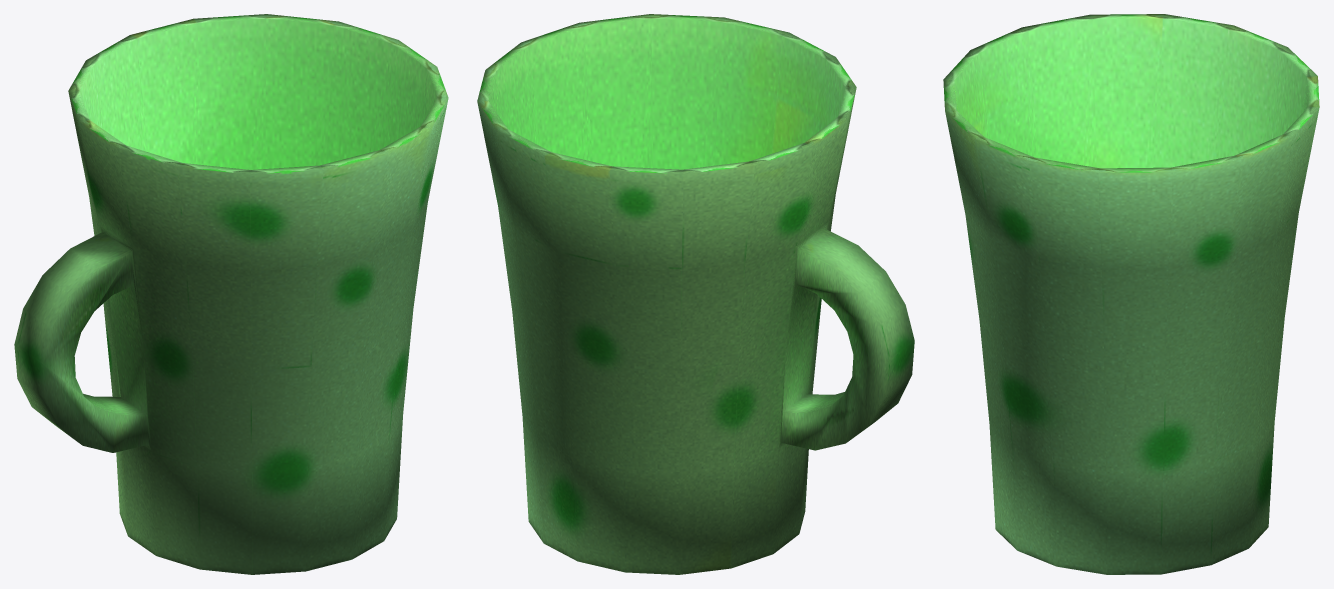
The model's file is greencup.fbx.
The picture shows the model from 3 angles, left to right: view 1: azimuth 30°, elevation 25°; view 2: azimuth 150°, elevation 25°; view 3: azimuth 270°, elevation 25°; orthographic projection.
Parts seen in each view (by area): view 1: lowcup2; view 2: lowcup2; view 3: lowcup2.
Part boxes in pixels (bbox=[...]): lowcup2: bbox=[14, 14, 448, 574]; lowcup2: bbox=[477, 14, 914, 574]; lowcup2: bbox=[943, 14, 1319, 574].
Size of the model in its own units: 0.0857 by 0.0706 by 0.0877.
1 material, 1 textured.
